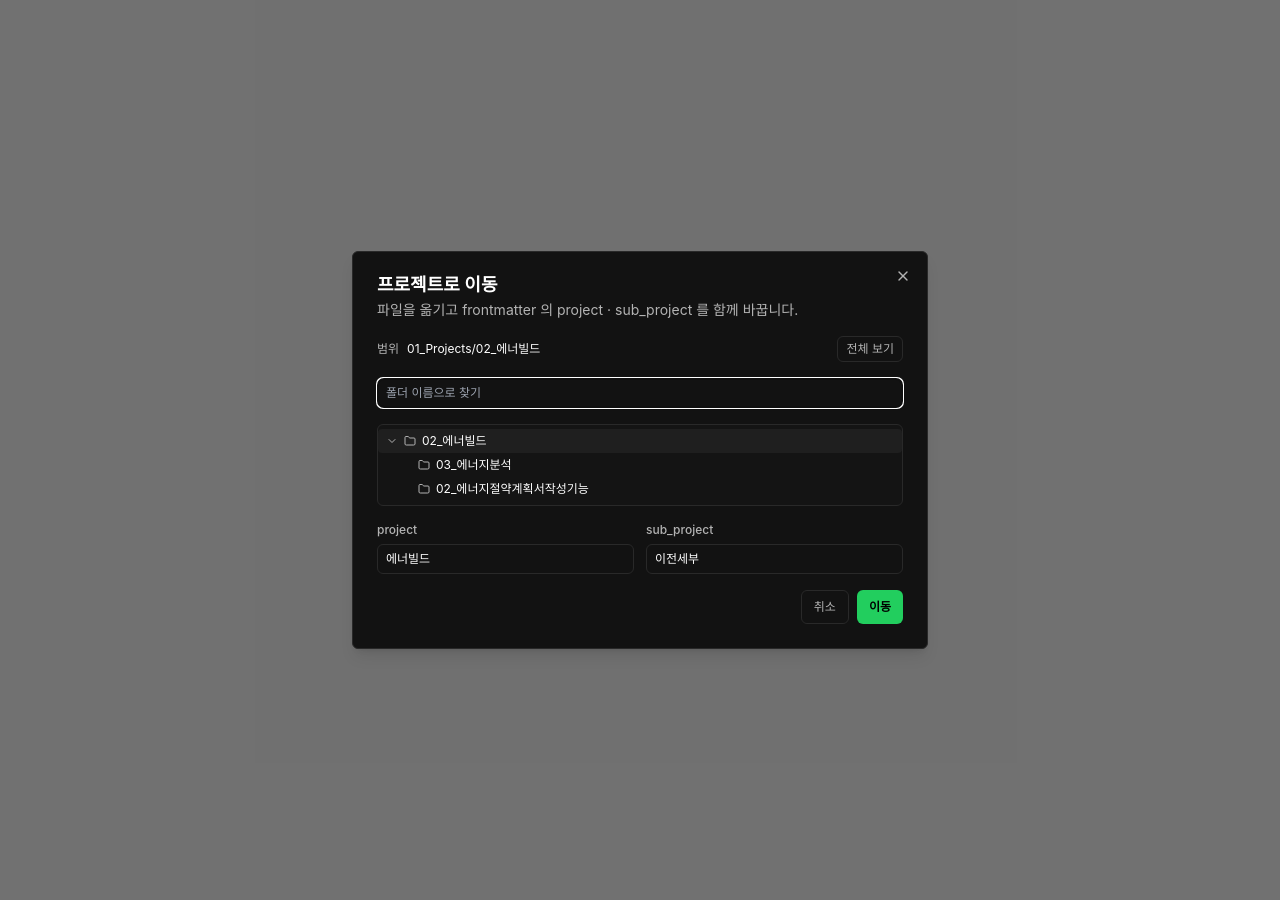
Test: MoveToProjectDialog › 폴더를 고르면 preset 으로 보정한 값을 미리보기에 채운다
Click the button "03_에너지분석".
click(474, 464)  # box [436,457,898,473]
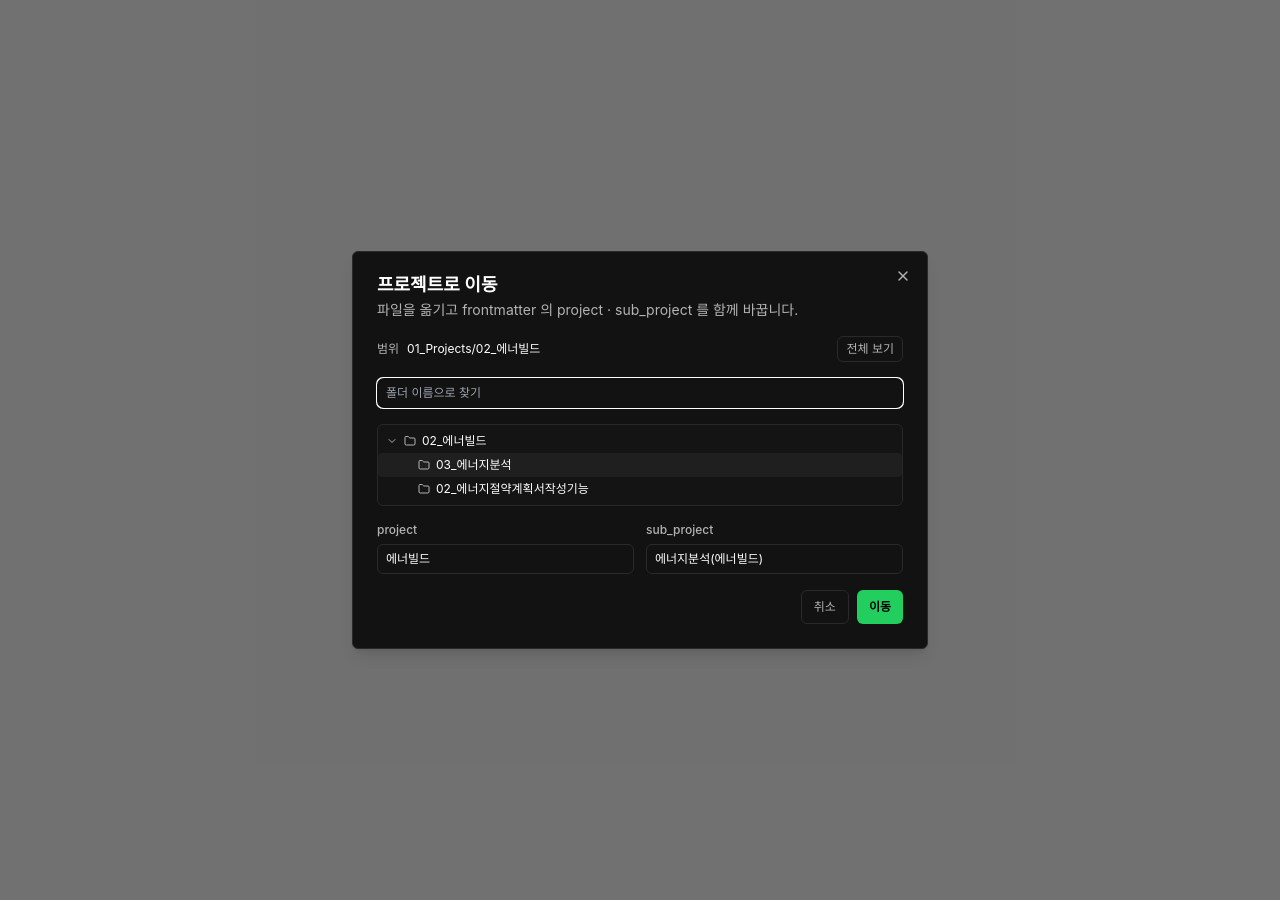
Expected: the field labelled "project" holds "에너빌드", [377,544,634,574]
Expected: the field labelled "sub_project" holds "에너지분석(에너빌드)", [646,544,903,574]
